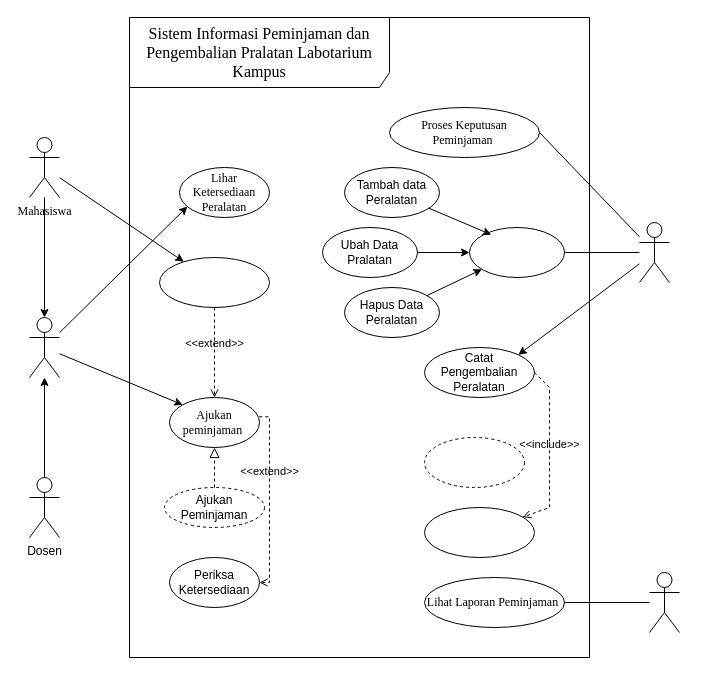
This 721x675 diagram has some shape labels left out. The centre of each missing label's shape, as x and y in pixels:
Catat Pengembalian Pralatan: point (474, 462)
Cetak Bukti Pengajuan: point (214, 282)
Kelola Data Pralatan: point (516, 252)
Kepala Laboran: point (664, 602)
Peminjam: point (44, 347)
Periksa Kondisi Pralatan: point (479, 532)
Petugas Laboran: point (654, 252)
